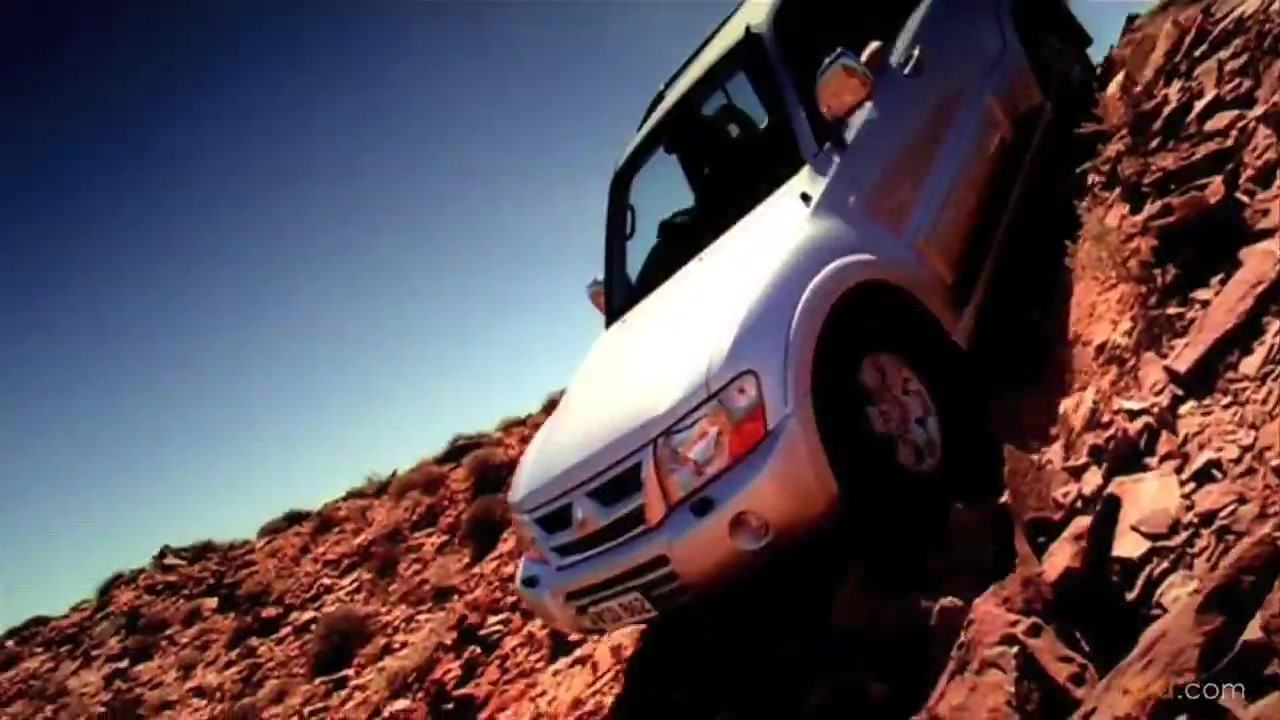car: (503, 1, 1105, 639)
